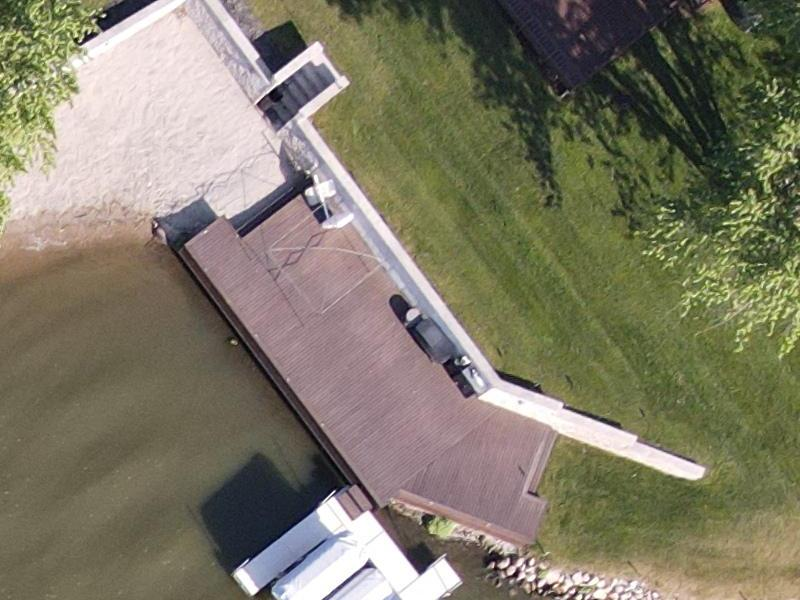boat: (180, 190, 564, 536), (245, 490, 580, 600)
